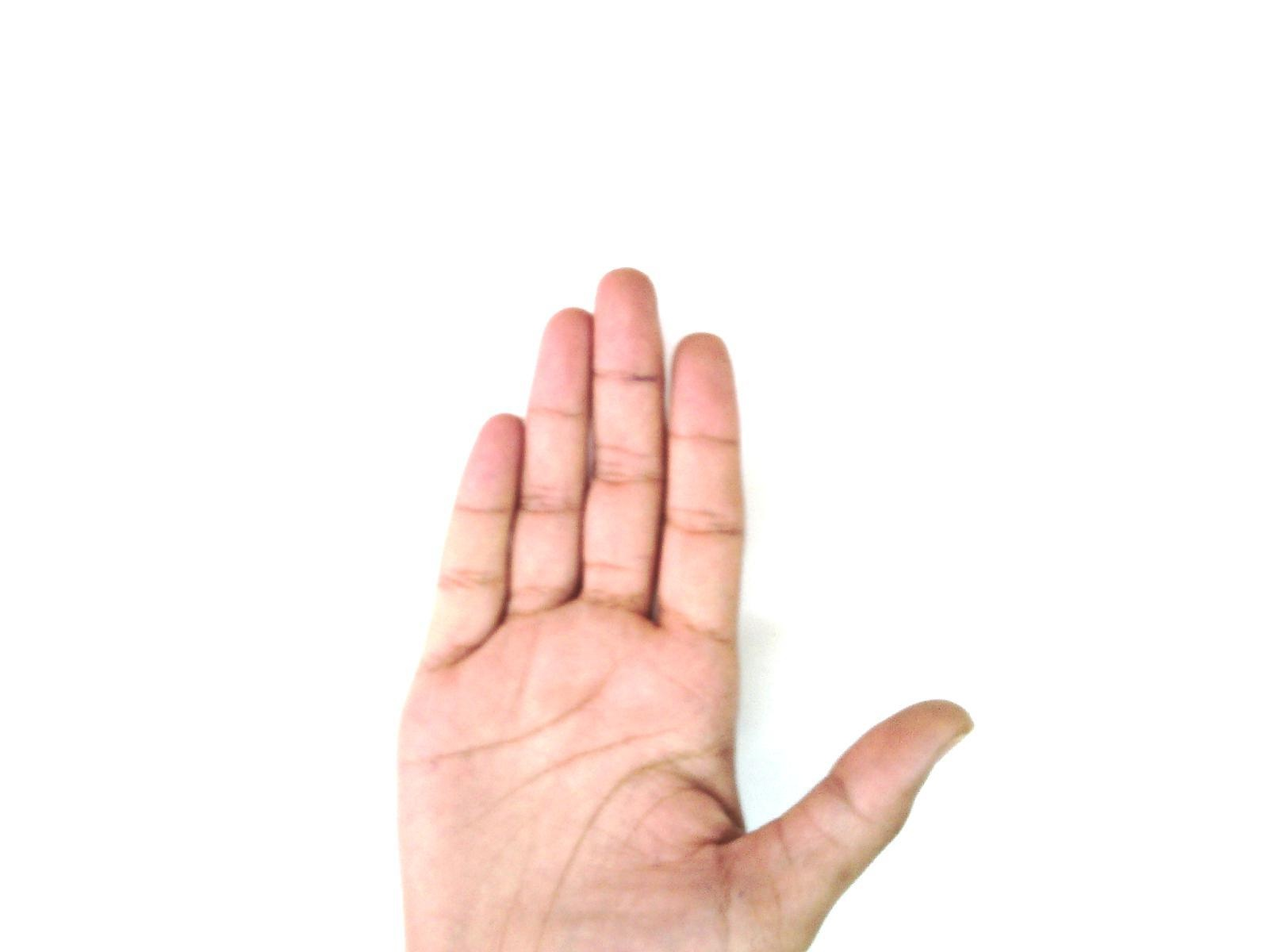open_palm: (393, 267, 976, 951)
